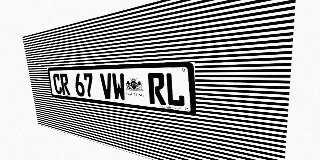6: (73, 73, 85, 97)
7: (83, 73, 95, 98)
C: (52, 74, 62, 94)
L: (165, 73, 185, 107)
R: (147, 73, 166, 105), (60, 73, 70, 95)
V: (100, 73, 114, 100)
W: (111, 73, 126, 101)
